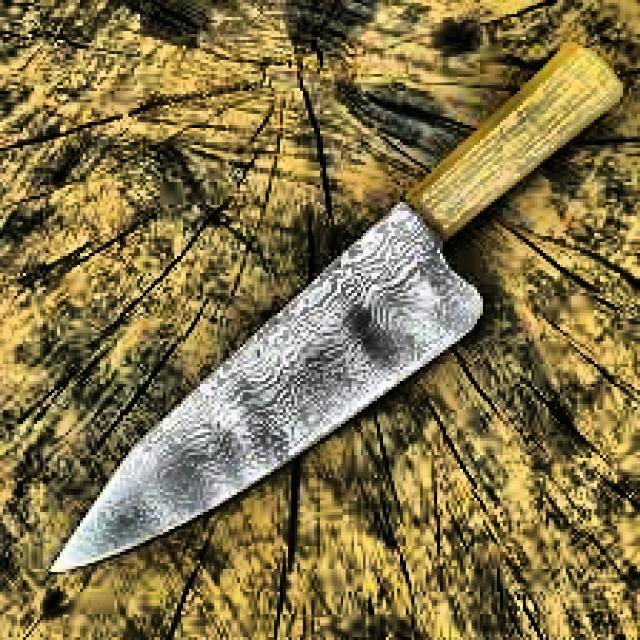knife: (53, 50, 623, 572)
